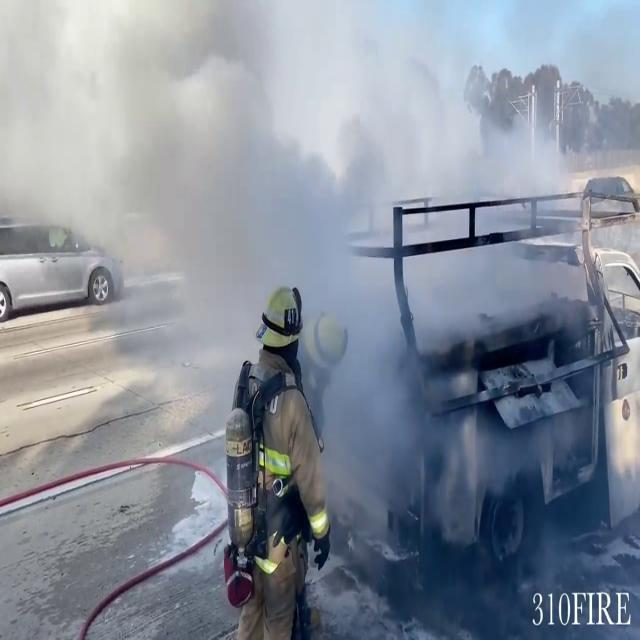Smoke: (0, 0, 614, 308)
